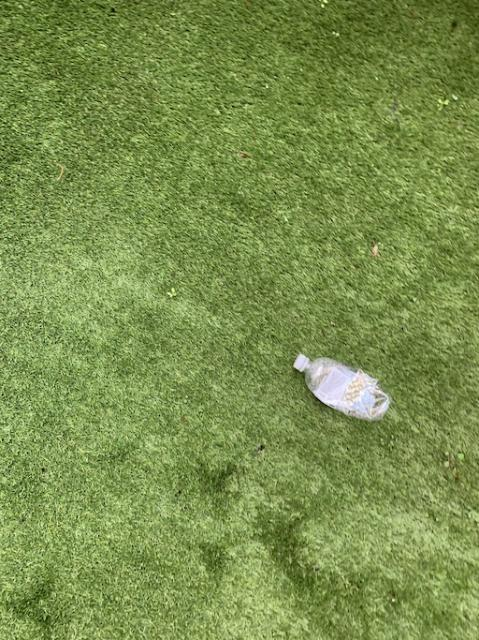plastic: (293, 353, 389, 419)
